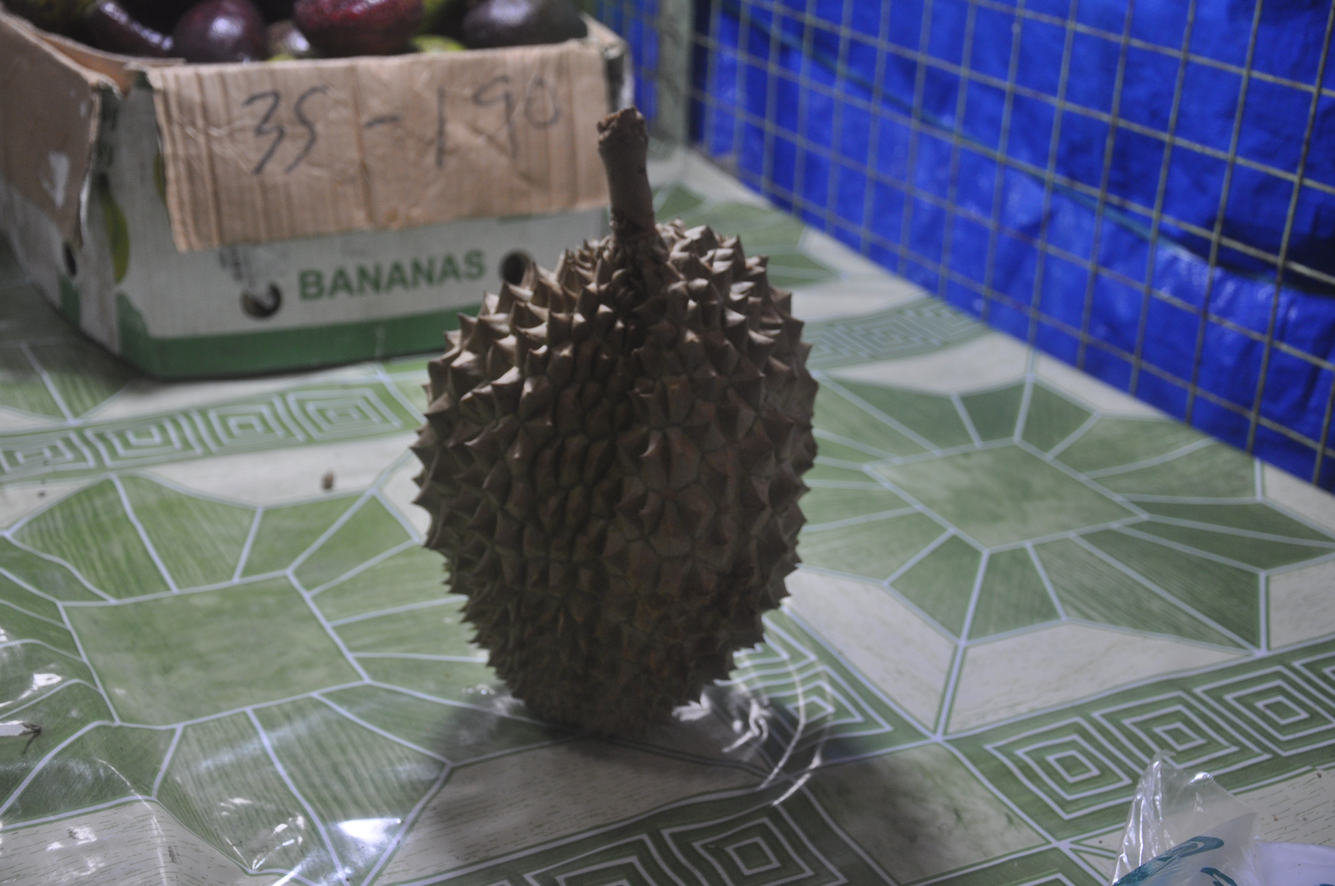mature: (412, 108, 817, 734)
